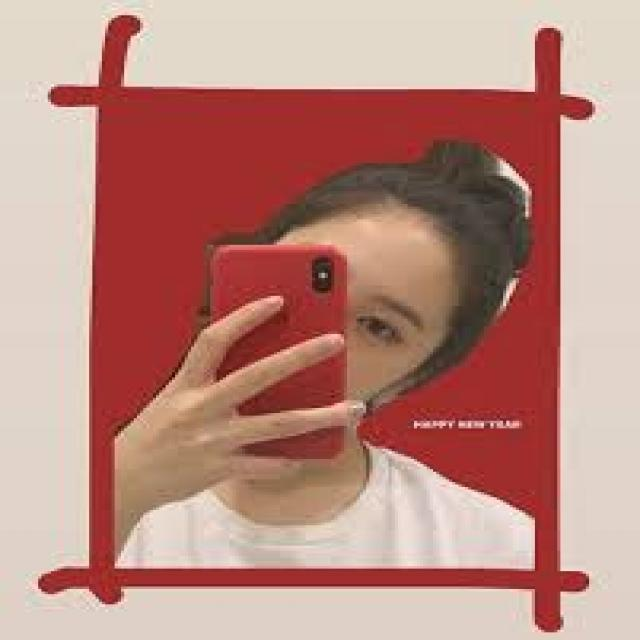Phone: (204, 240, 353, 457)
